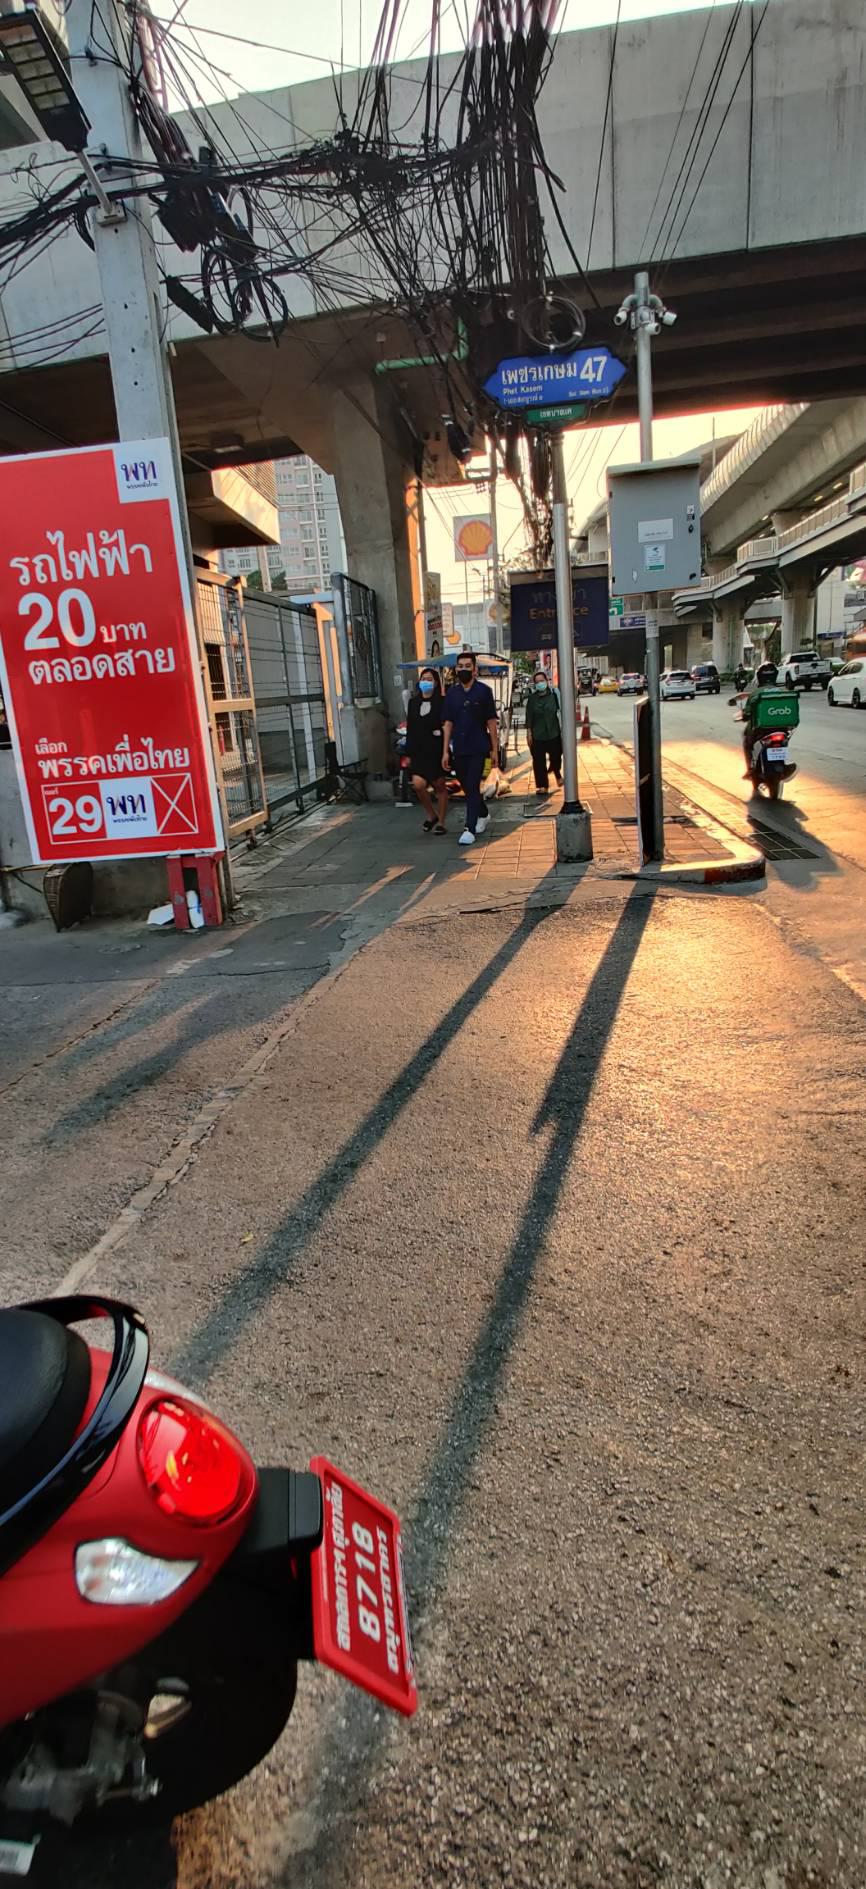Banner: (0, 446, 245, 857)
